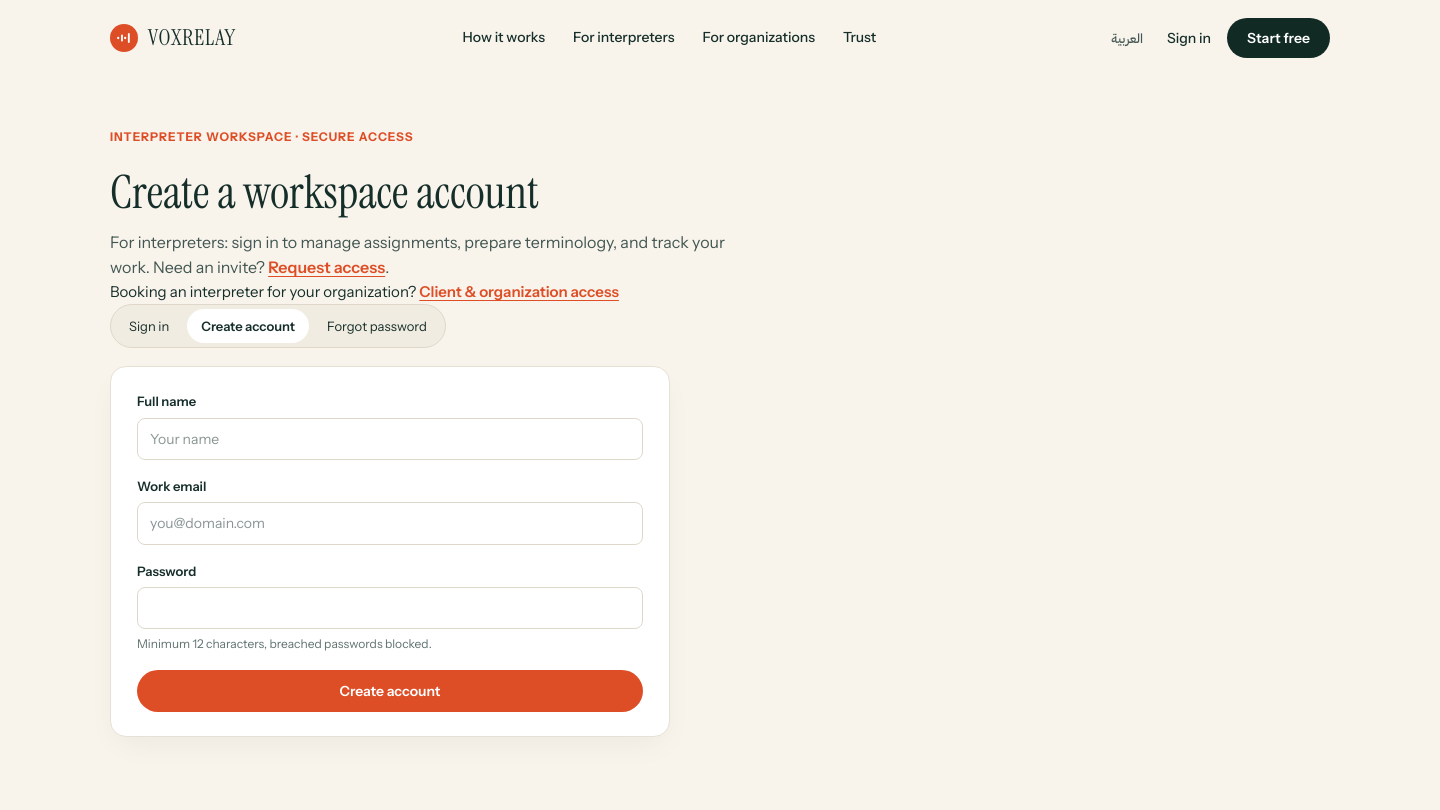
Scenario: Auth.tsx frontend fail-closed behavior against /api/auth rate limits & 5xx responses › does not fall back to supabase.auth.signUp() when /api/auth returns 503 (e.g. rate-limit DB unavailable)
The width and height of the screenshot is (1440, 810).
Type "interp@clinic.org" into the field labelled "Work email" at (390, 524), box left=137, top=502, right=643, bottom=545
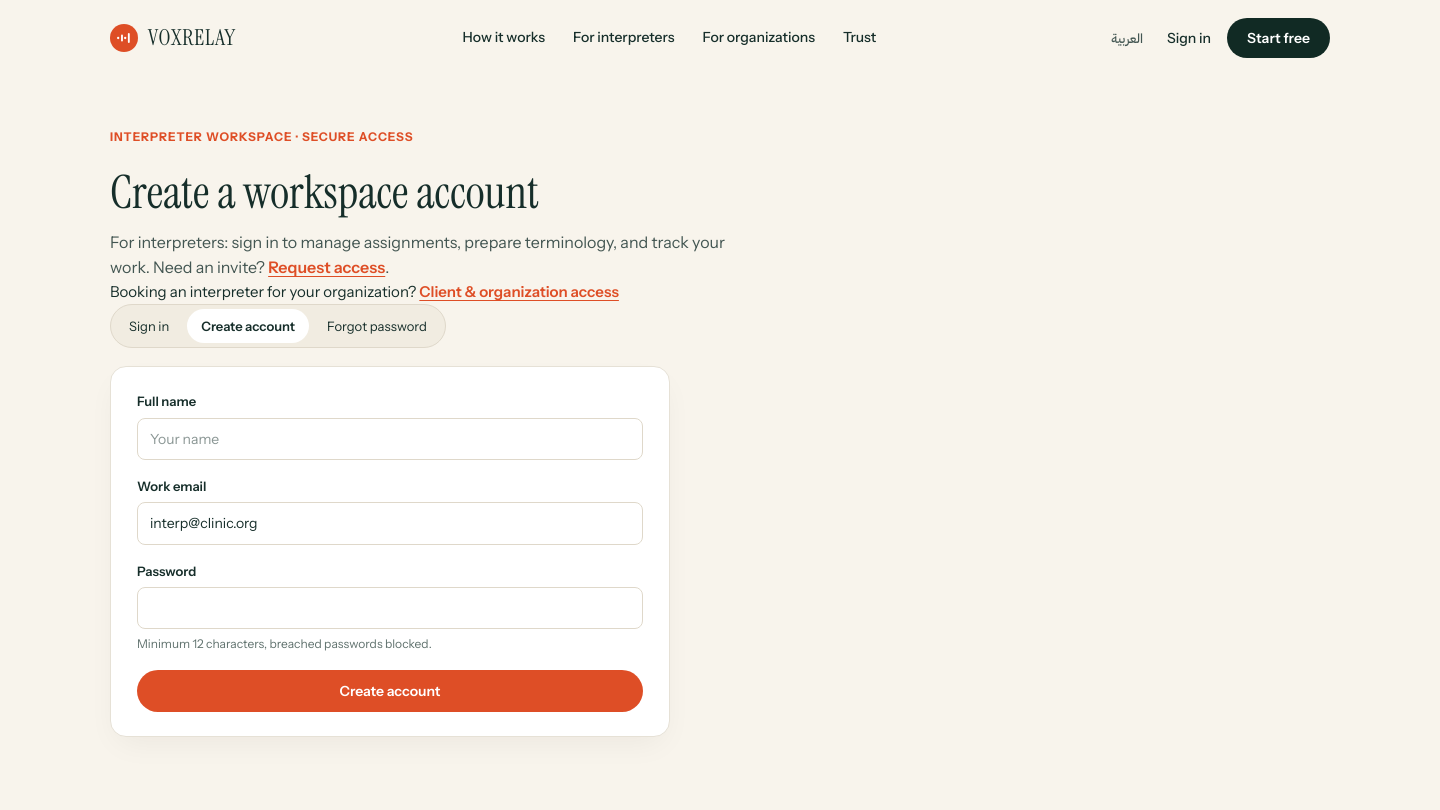
Type "ValidStrongPassword123!" into the password field labelled "Password" at (390, 608), box left=137, top=587, right=643, bottom=629
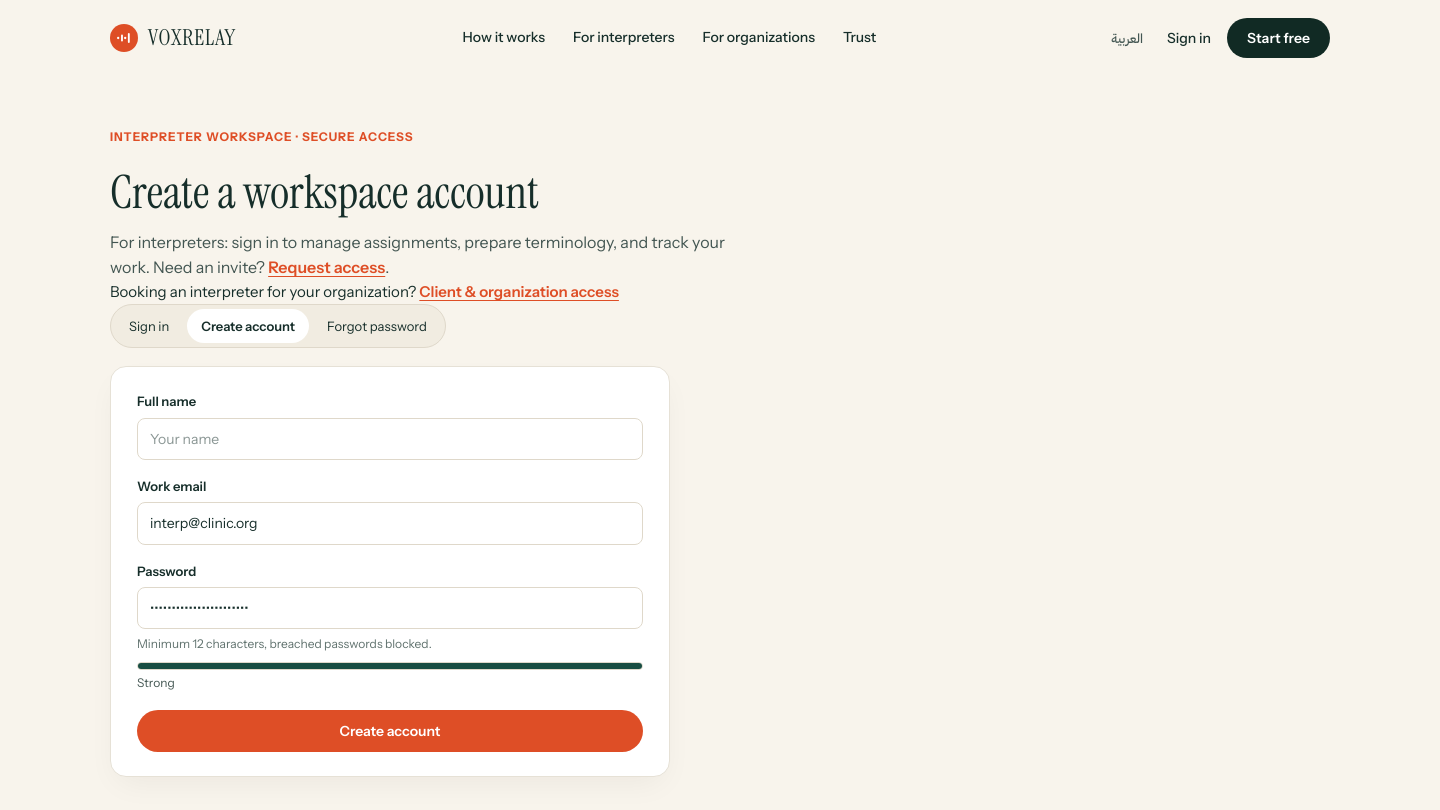
Click the button "Create account" below "Strong" at (390, 731), box left=137, top=710, right=643, bottom=752
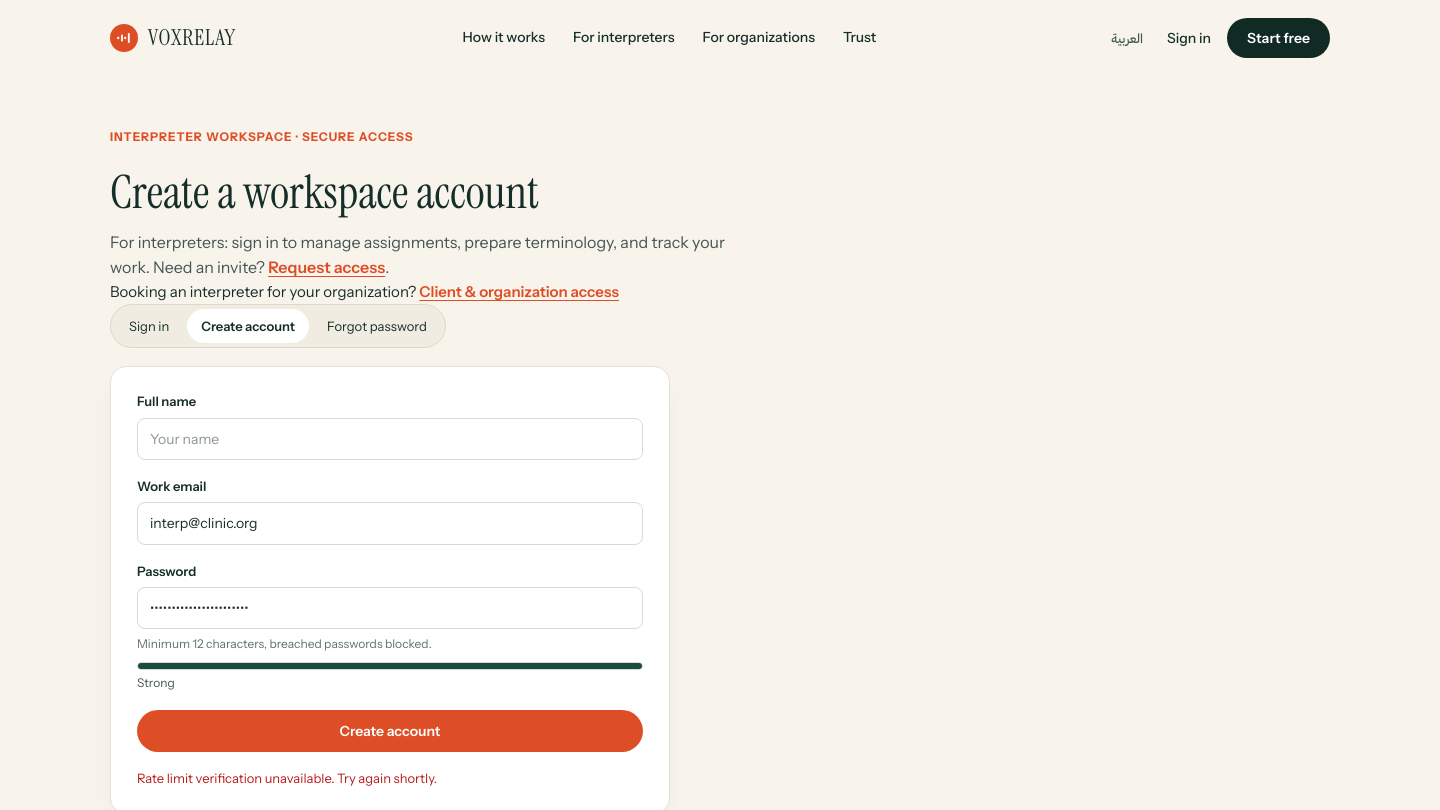
Check: the message shows "Rate limit verification unavailable", box left=137, top=770, right=437, bottom=786
